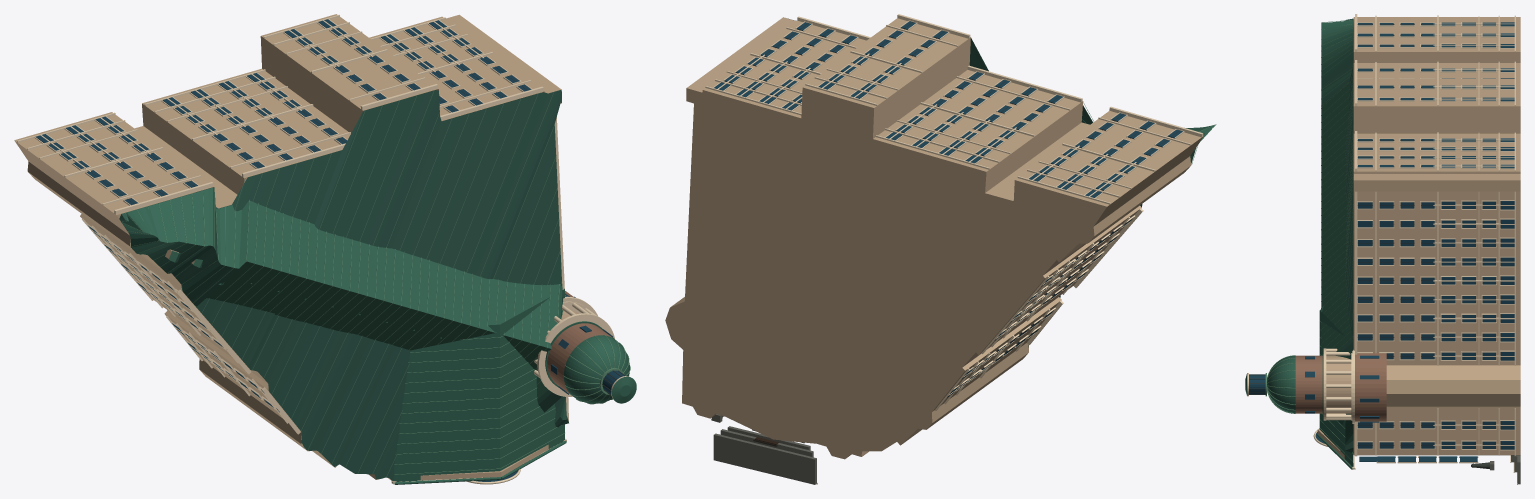
File: mannerheimintie-5.obj
3 views of the same model, side by side, from view 1: azimuth 30°, elevation 25°; view 2: azimuth 150°, elevation 25°; view 3: azimuth 270°, elevation 25° (orthographic). The views are drawn at different scales.
Visible parts, largest first — view 1: Roof_|_low_pitched_copper_fill_beneath_raised_wings, Building_envelope_|_Helsinki_WFS_footprint, Roof_|_long_Mannerheimintie_wing_|_fitted_gable, Roof_|_Ylioppilasaukio_wing_|_perpendicular_gable, Cornices_and_columns_|_pale_limestone, Windows_|_deep_blue-grey_glass, Cupola_|_documented_4.3_m_hemisphere, Cupola_|_neck, Cupola_colonnade_|_capital_ring, Square_elevation_|_broad_cream_gable; view 2: Building_envelope_|_Helsinki_WFS_footprint, Cornices_and_columns_|_pale_limestone, Windows_|_deep_blue-grey_glass, Plinth_and_steps_|_grey_granite, Window_framing_|_dark_bronze; view 3: Building_envelope_|_Helsinki_WFS_footprint, Cornices_and_columns_|_pale_limestone, Windows_|_deep_blue-grey_glass, Roof_|_long_Mannerheimintie_wing_|_fitted_gable, Roof_|_low_pitched_copper_fill_beneath_raised_wings, Corner_tower_|_projecting_drum, Cupola_|_neck, Cupola_|_documented_4.3_m_hemisphere, Cupola_|_drum_behind_columns, Roof_|_Ylioppilasaukio_wing_|_perpendicular_gable, Window_framing_|_dark_bronze, Lantern_|_glazed_drum.
Part boxes in pixels (x1,y1,x2,y2): Roof_|_low_pitched_copper_fill_beneath_raised_wings: (119, 90, 568, 481); Building_envelope_|_Helsinki_WFS_footprint: (14, 14, 561, 480); Roof_|_long_Mannerheimintie_wing_|_fitted_gable: (122, 187, 563, 412); Roof_|_Ylioppilasaukio_wing_|_perpendicular_gable: (394, 289, 564, 481); Cornices_and_columns_|_pale_limestone: (17, 14, 568, 484); Windows_|_deep_blue-grey_glass: (36, 19, 612, 412); Cupola_|_documented_4.3_m_hemisphere: (563, 335, 629, 403); Cupola_|_neck: (547, 323, 612, 395); Cupola_colonnade_|_capital_ring: (537, 313, 614, 396); Square_elevation_|_broad_cream_gable: (420, 444, 548, 480); Building_envelope_|_Helsinki_WFS_footprint: (665, 17, 1203, 459); Cornices_and_columns_|_pale_limestone: (705, 14, 1203, 484); Windows_|_deep_blue-grey_glass: (714, 21, 1182, 397); Plinth_and_steps_|_grey_granite: (711, 414, 816, 484); Window_framing_|_dark_bronze: (753, 22, 1179, 446); Building_envelope_|_Helsinki_WFS_footprint: (1353, 17, 1520, 455); Cornices_and_columns_|_pale_limestone: (1352, 14, 1517, 484); Windows_|_deep_blue-grey_glass: (1305, 22, 1514, 461); Roof_|_long_Mannerheimintie_wing_|_fitted_gable: (1321, 20, 1352, 424); Roof_|_low_pitched_copper_fill_beneath_raised_wings: (1345, 18, 1353, 454); Corner_tower_|_projecting_drum: (1355, 352, 1386, 421); Cupola_|_neck: (1295, 355, 1322, 413); Cupola_|_documented_4.3_m_hemisphere: (1267, 356, 1295, 412); Cupola_|_drum_behind_columns: (1326, 355, 1351, 413); Roof_|_Ylioppilasaukio_wing_|_perpendicular_gable: (1319, 306, 1352, 466); Window_framing_|_dark_bronze: (1357, 24, 1432, 445); Lantern_|_glazed_drum: (1249, 374, 1265, 394).
Bounding box in the file's own units: 67.77 × 56.37 × 40.93.
